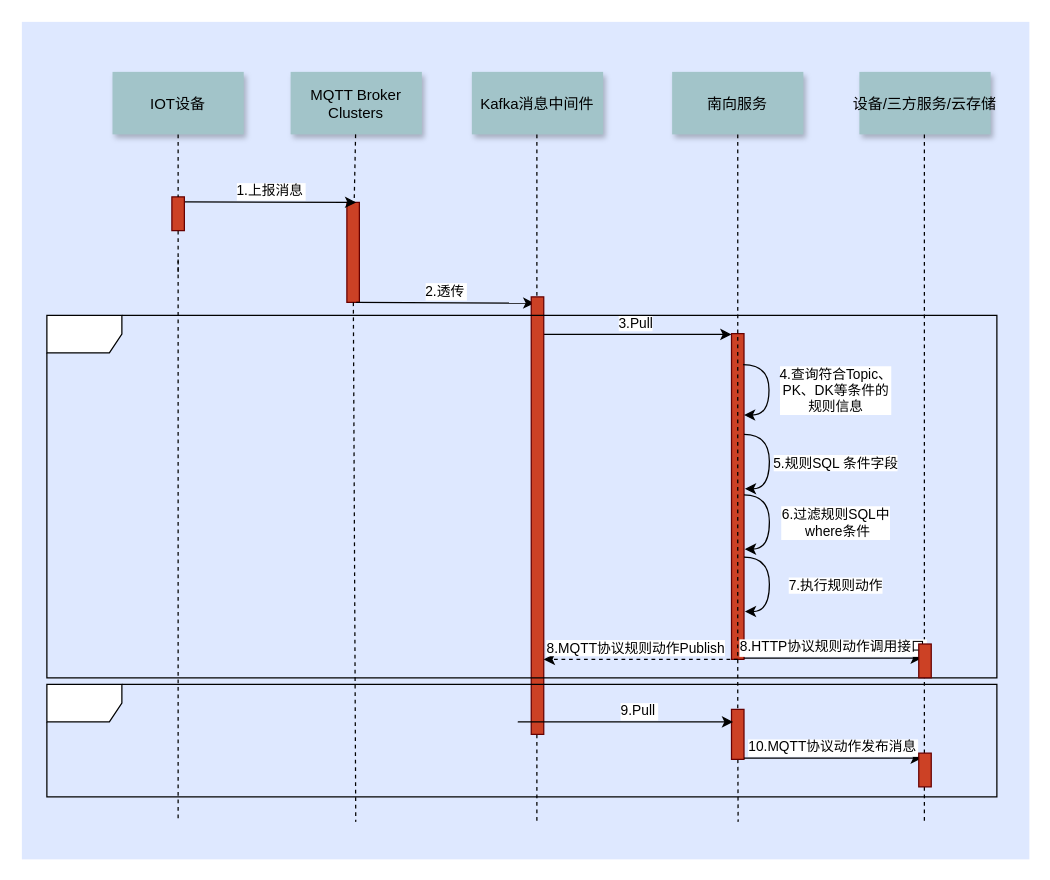
The diagram is 1050 pixels wide and 880 high, and some of its shapes have lost their labels. Each missing label, with the centre of its shape:
"消息发布" belongs at point (521, 740).
"规则引擎" belongs at point (521, 496).
